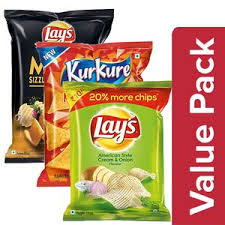kurkure: (61, 57, 132, 84)
plastic: (1, 5, 171, 225)
wrapper: (60, 80, 170, 221), (6, 10, 107, 152)
